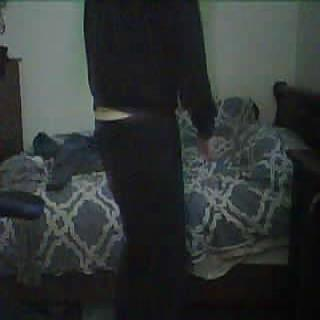Navy Sweatpants: (95, 115, 192, 316)
